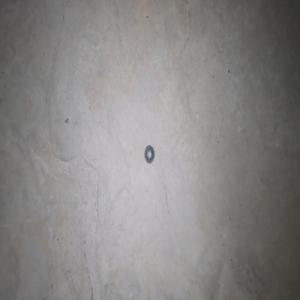Washer: (144, 144, 154, 163)
